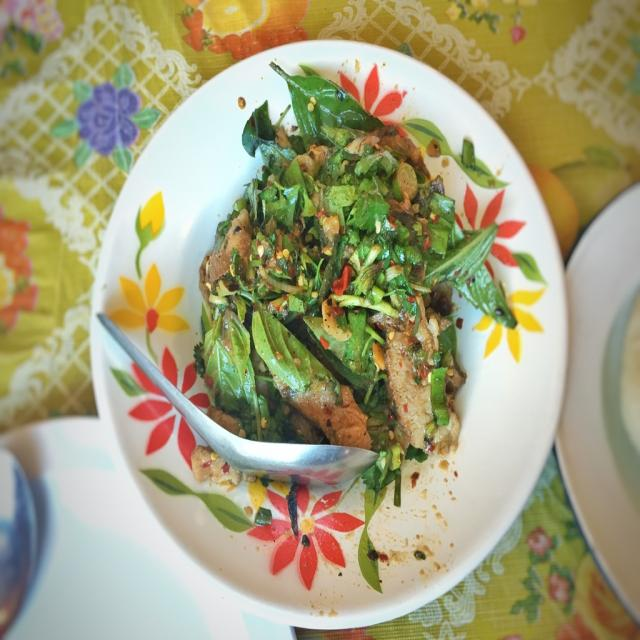non-organic waste: (76, 38, 590, 620)
